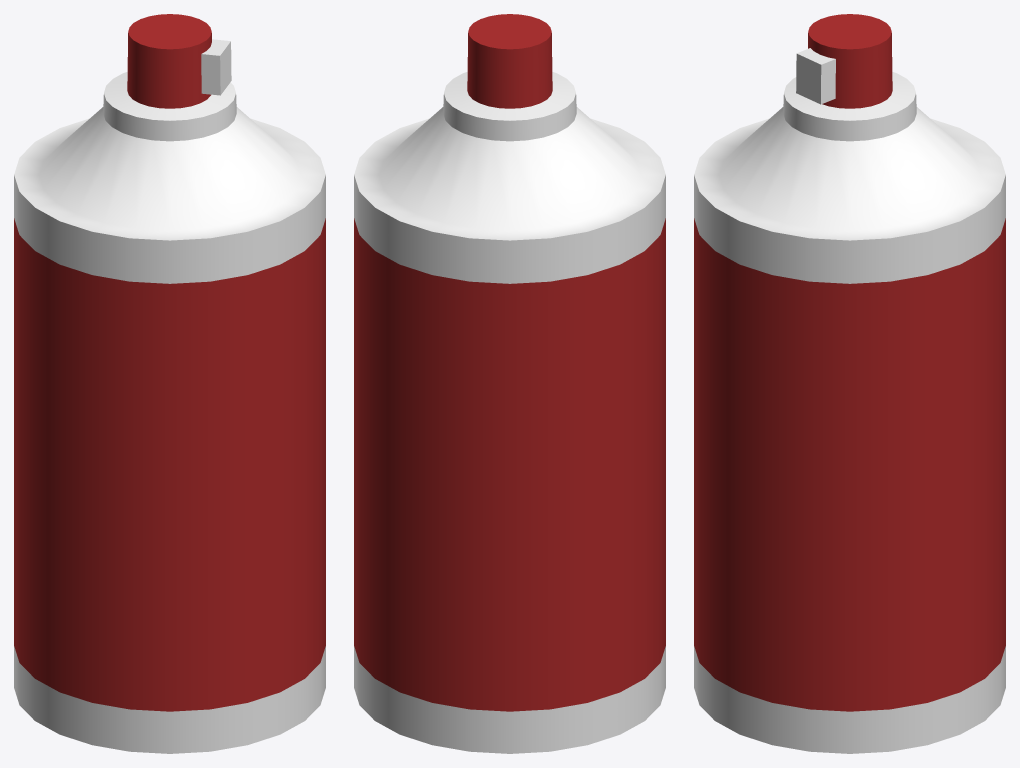
File: SprayPaintCan.fbx
The picture shows the model from 3 angles, left to right: view 1: azimuth 30°, elevation 25°; view 2: azimuth 150°, elevation 25°; view 3: azimuth 270°, elevation 25°; orthographic projection.
Parts seen in each view (by area): view 1: SprayPaintCan; view 2: SprayPaintCan; view 3: SprayPaintCan.
Part boxes in pixels (x1,y1,x2,y2): SprayPaintCan: [14, 14, 325, 753]; SprayPaintCan: [354, 14, 665, 753]; SprayPaintCan: [694, 14, 1005, 753].
Size of the model in its own units: 64.17 by 149 by 64.17.
